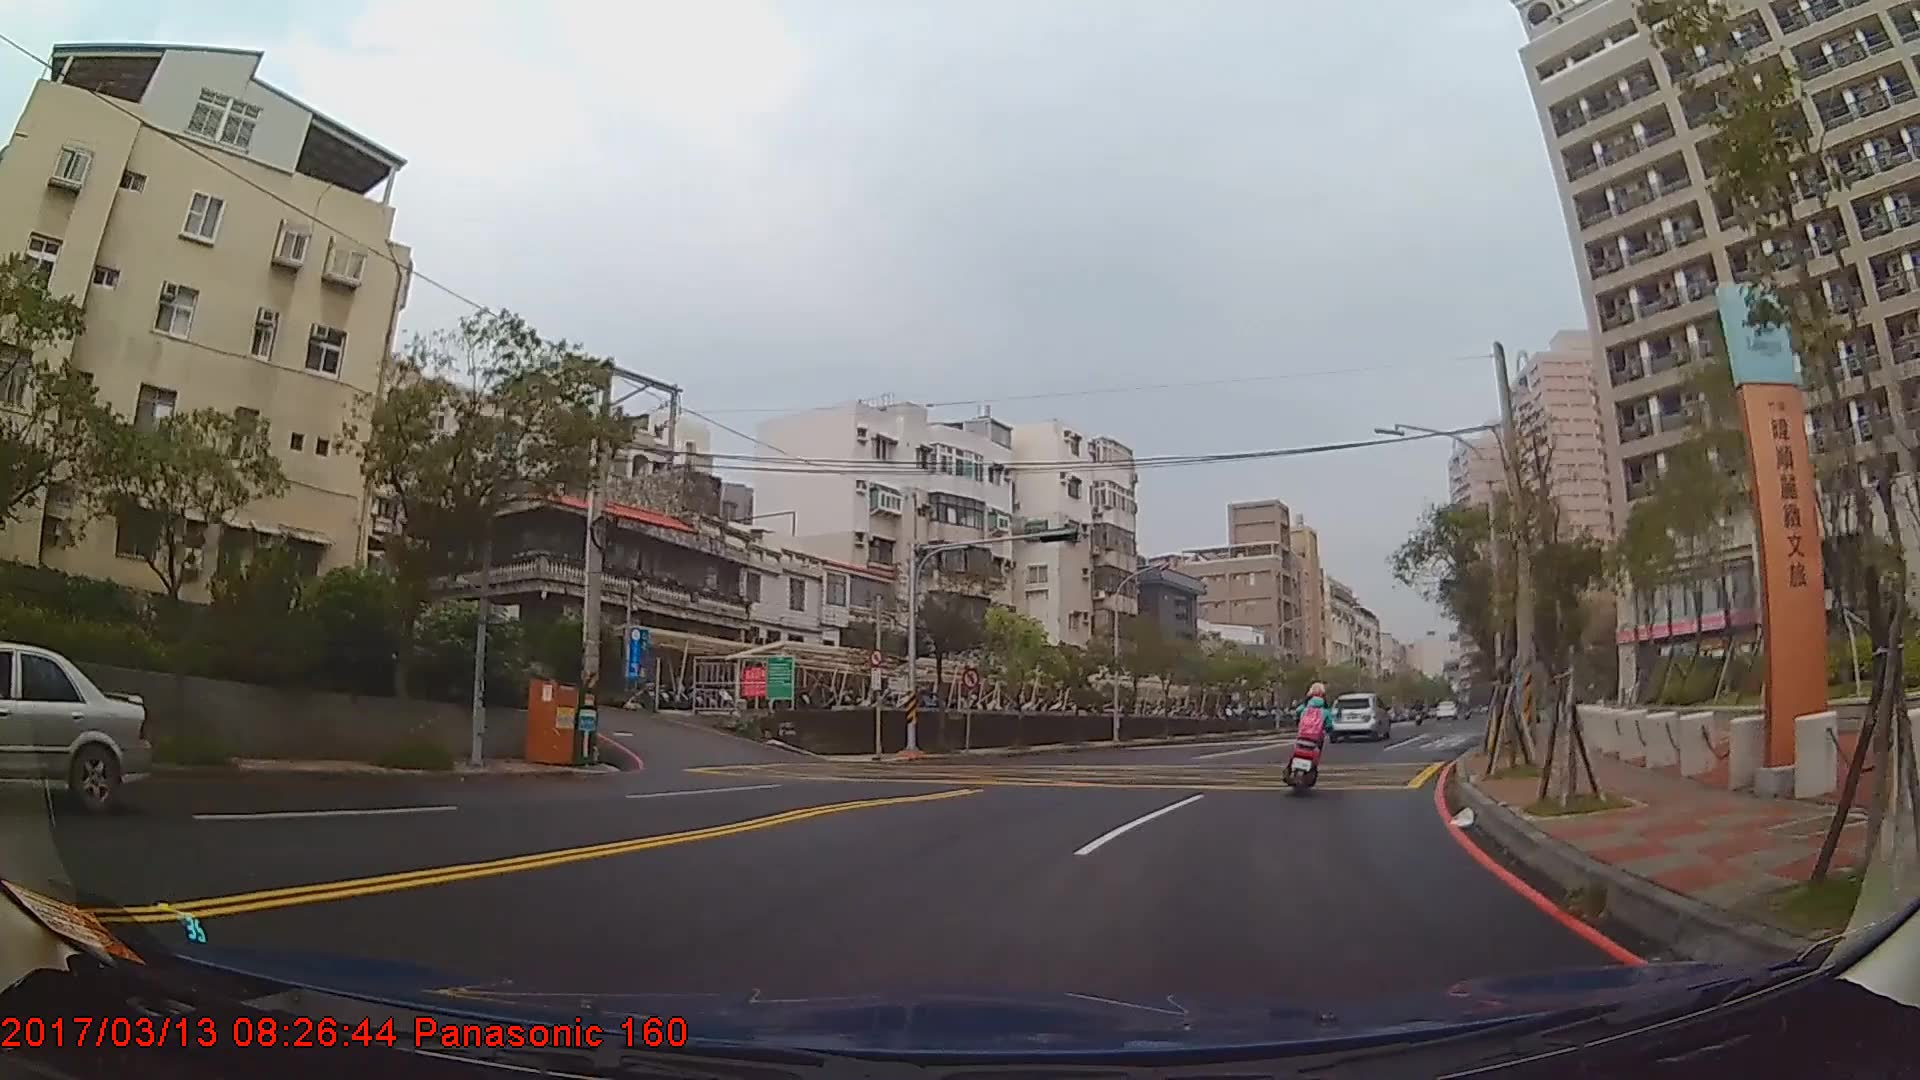rider: (1284, 678, 1337, 790)
vehicle: (0, 637, 151, 814), (1327, 691, 1393, 740)
